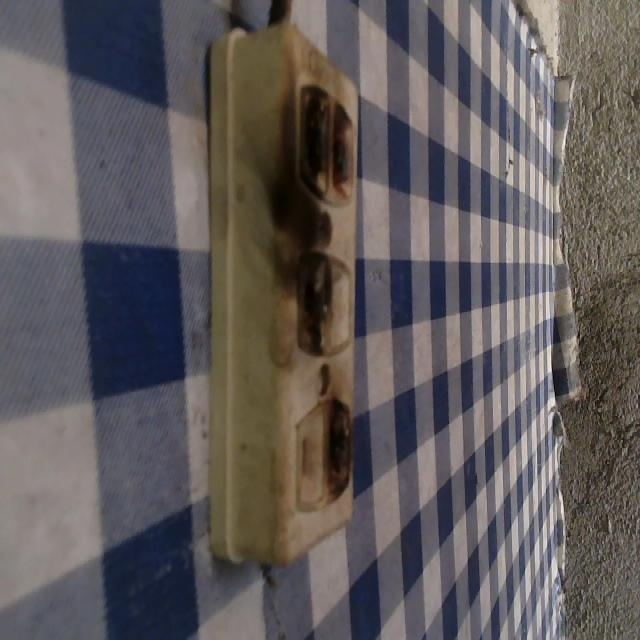-: (290, 76, 360, 220), (289, 245, 331, 360), (322, 396, 357, 495)
